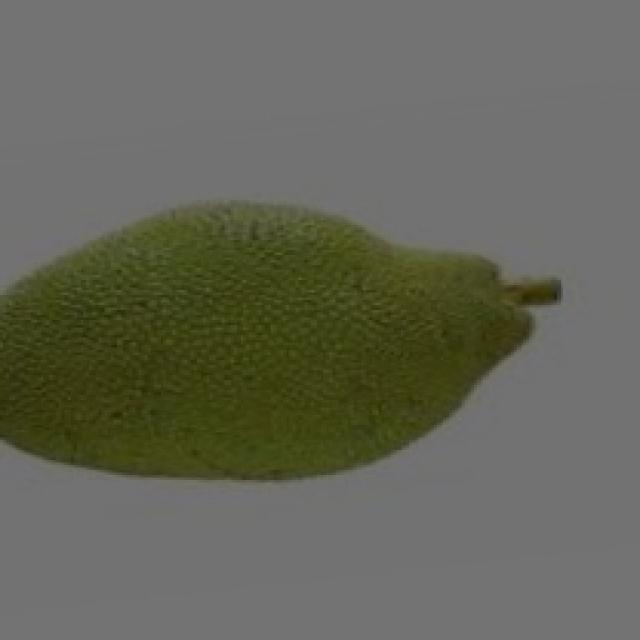Fruit: (163, 185, 551, 505)
